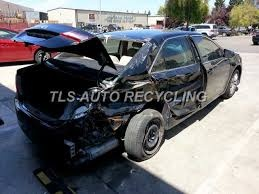Broken-glass: (81, 37, 154, 66), (71, 100, 101, 120)
Dent: (159, 68, 203, 120)
Smashed: (53, 88, 143, 171)
